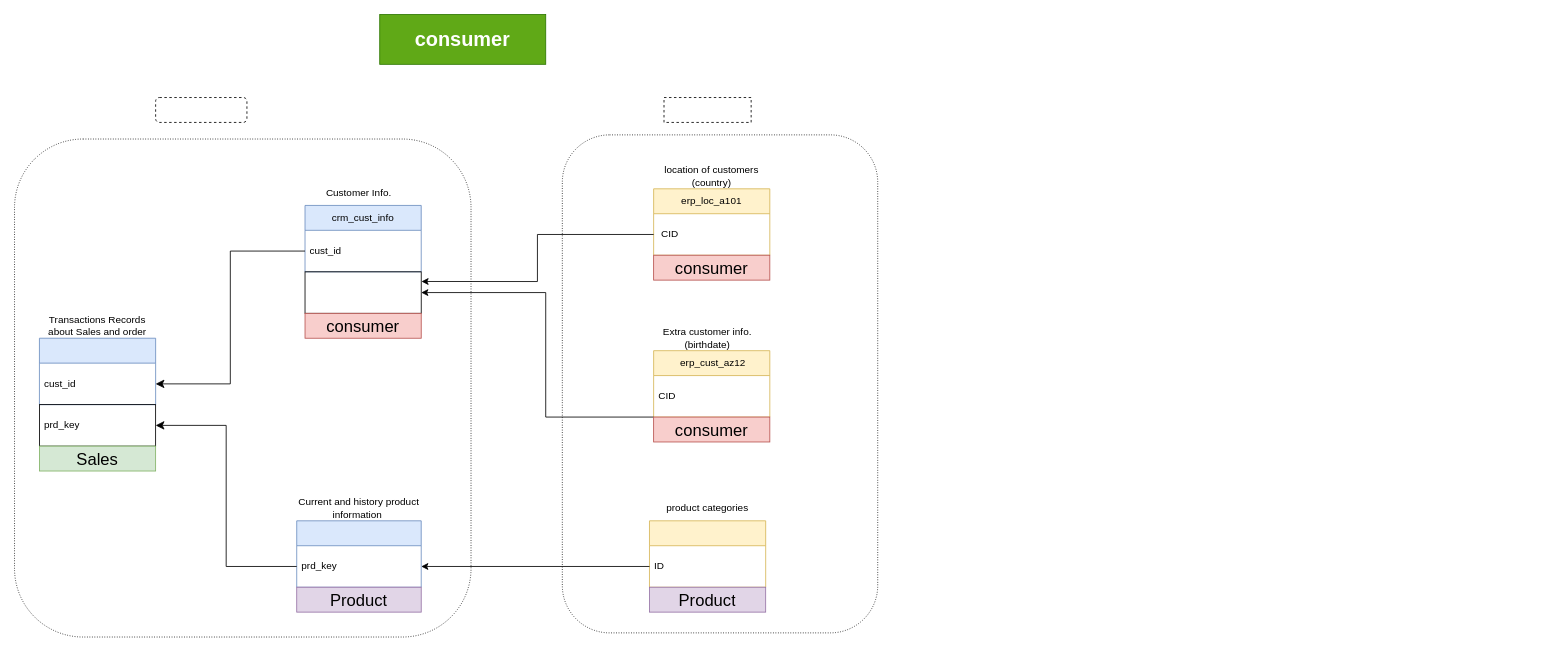
Image size: 1558x652. Some labels were removed from this diagram. Each missing label, with the box of its shape:
CRM: (155, 97, 247, 122)
crm_prd_info: (296, 520, 421, 587)
crm_sales_details: (39, 337, 156, 405)
cst_key: (304, 271, 421, 313)
ERP: (663, 97, 751, 122)
erp_px_cat_g1v2: (649, 520, 766, 587)
